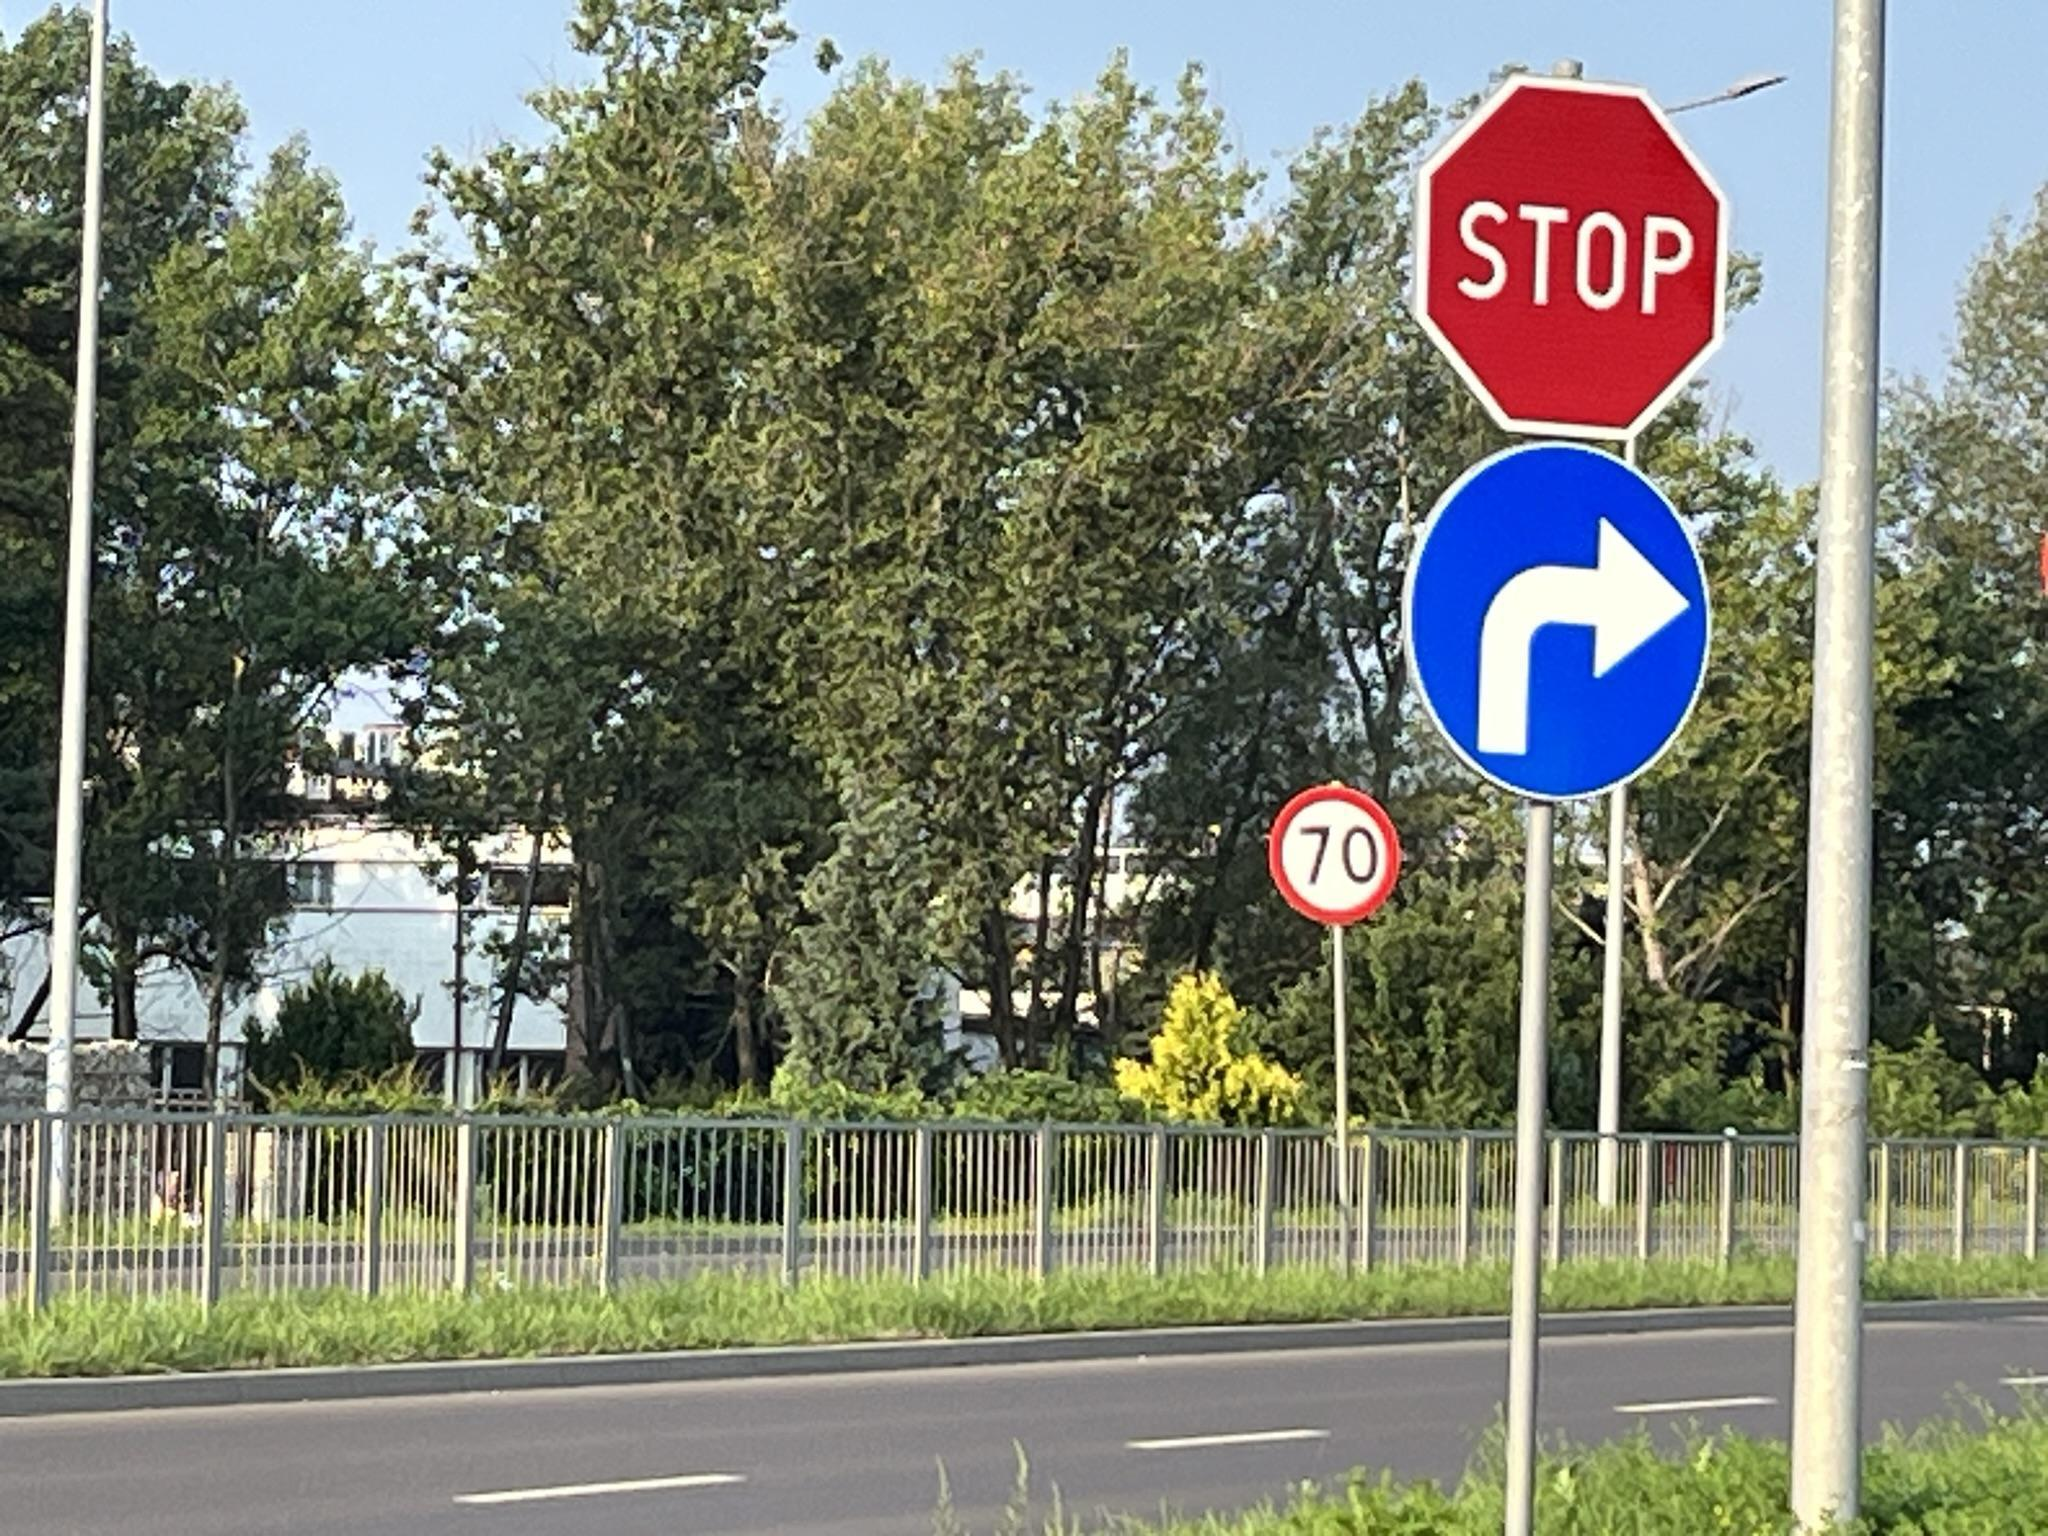information: (1400, 442, 1716, 805)
prohibitory: (1409, 73, 1727, 444), (1269, 783, 1403, 925)
